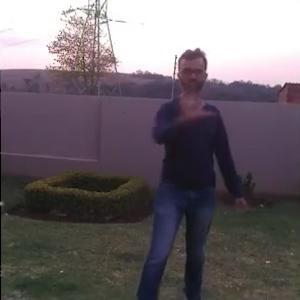follow_hand: (176, 79, 219, 124)
